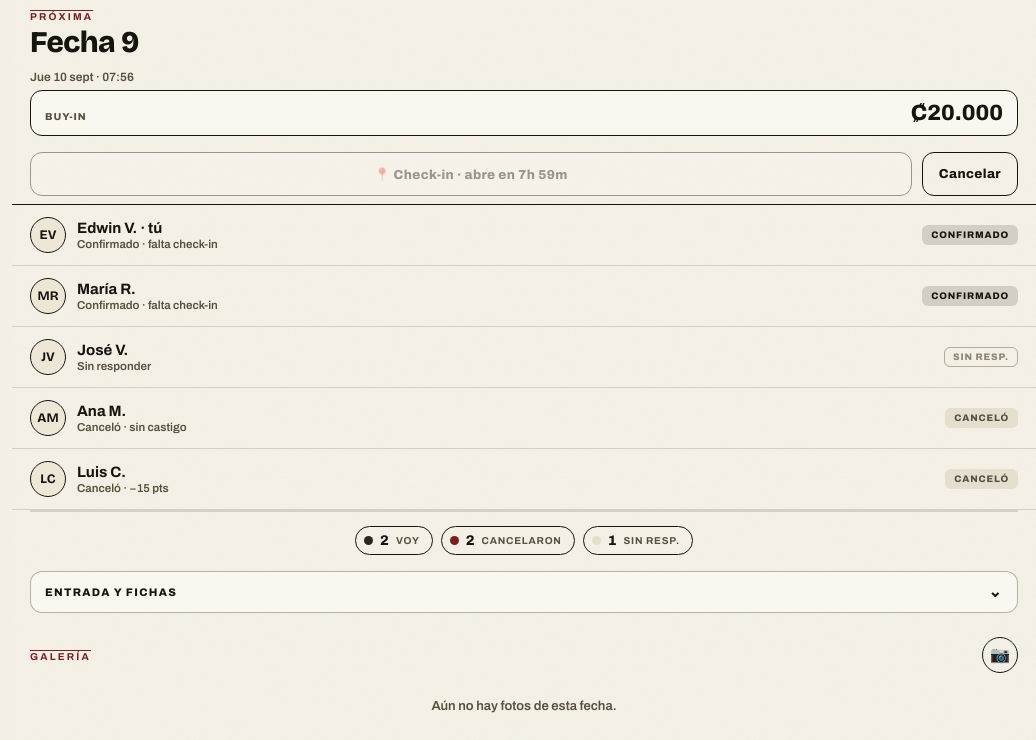
Test case: FechaDetail › fecha card shows entry + chips (buy-in, stack, early bird), not the scoring formula
Expected: the heading "Fecha 9" is shown, [30,28,139,57]
Click the button "Entrada y fichas ⌄" at [111, 592], box [30,571,1018,613]
(page scrolled)
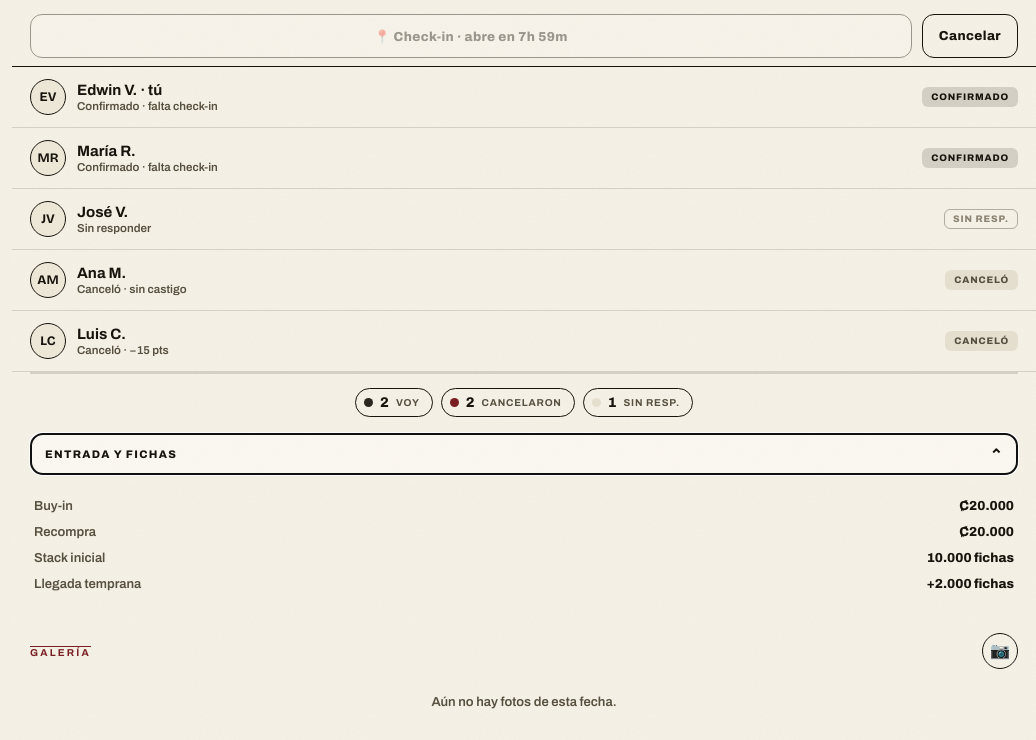
Expected: the element with test id "fd-info-section" shows "₡20.000", [959,499,1014,513]
Expected: the element with test id "fd-info-section" shows "10.000 fichas", [927,551,1014,565]
Expected: the element with test id "fd-info-section" shows "2.000 fichas", [926,577,1014,591]
